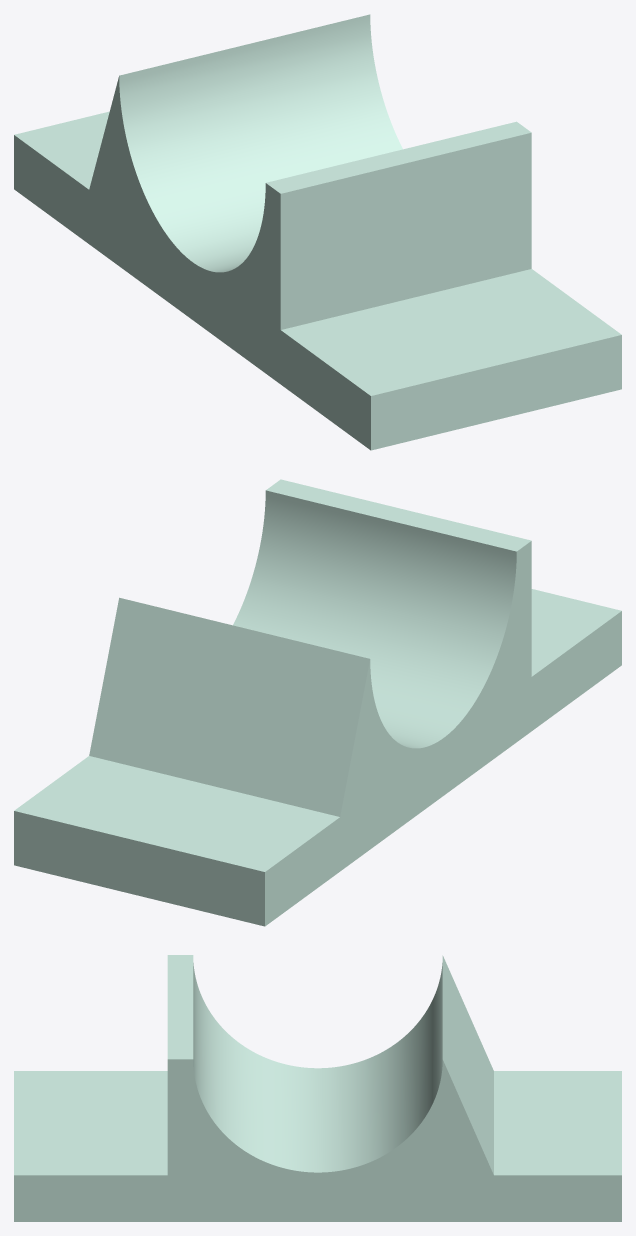
The picture shows the model from 3 angles, top to bottom: view 1: azimuth 30°, elevation 25°; view 2: azimuth 150°, elevation 25°; view 3: azimuth 270°, elevation 25°; orthographic projection. The views are drawn at different scales.
Parts seen in each view (by area): view 1: Renderer Node; view 2: Renderer Node; view 3: Renderer Node.
Part boxes in pixels (x1,y1,x2,y2): Renderer Node: [14, 14, 621, 450]; Renderer Node: [14, 479, 621, 926]; Renderer Node: [14, 955, 621, 1221].
Bounding box in the file's own units: 0.5234 × 0.3799 × 1.29.
